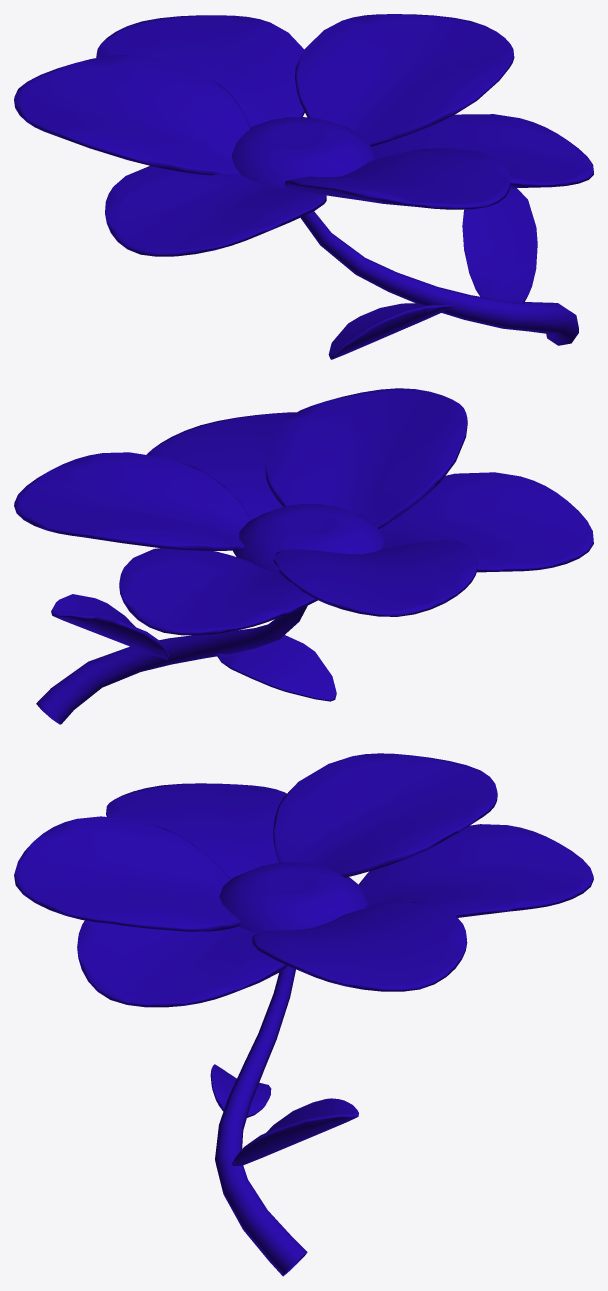
File: sm_flower_02.fbx
3 renders of one model, top to bottom at view 1: azimuth 30°, elevation 25°; view 2: azimuth 150°, elevation 25°; view 3: azimuth 270°, elevation 25°, orthographic. The views are drawn at different scales.
Visible parts, largest first — view 1: sm_flower_02; view 2: sm_flower_02; view 3: sm_flower_02.
Part boxes in pixels (x1,y1,x2,y2): sm_flower_02: (14, 14, 593, 359); sm_flower_02: (14, 388, 593, 724); sm_flower_02: (14, 753, 593, 1276).
Size of the model in its own units: 143 by 83.2 by 143.
